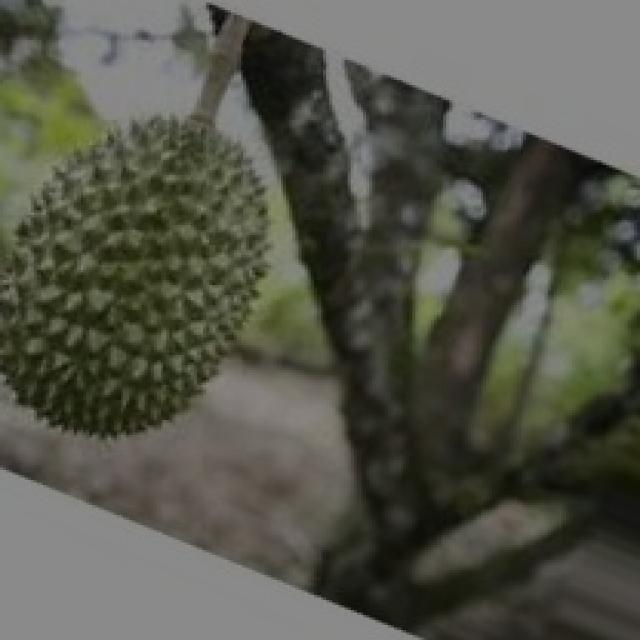fruit: (0, 59, 332, 482)
